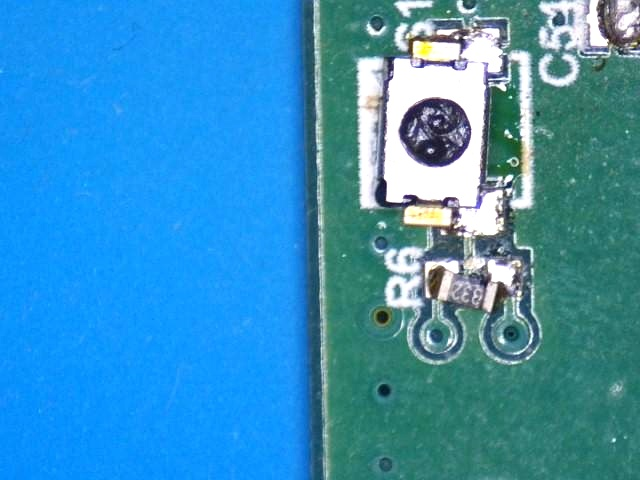pcb_defect: (373, 29, 504, 235), (425, 260, 522, 314)
